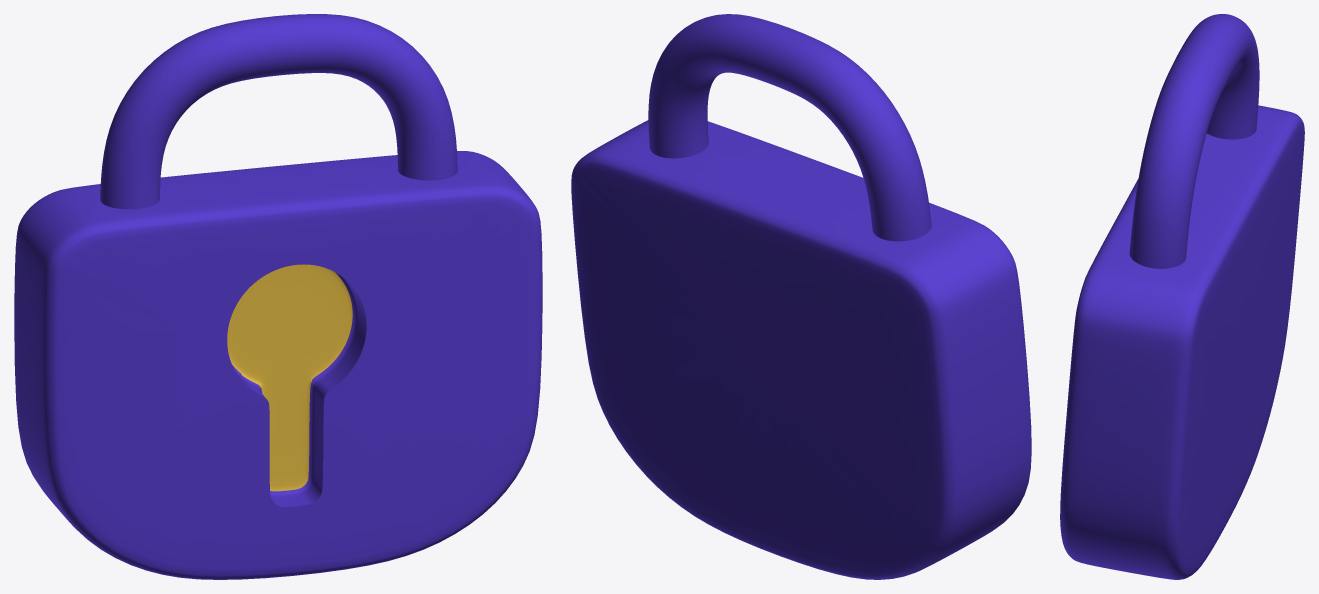
The model's file is padlock-3d-icon-1058526044089.glb.
3 views of the same model, side by side, from view 1: azimuth 30°, elevation 25°; view 2: azimuth 150°, elevation 25°; view 3: azimuth 270°, elevation 25° (orthographic). The views are drawn at different scales.
Parts seen in each view (by area): view 1: Padlock, Key Hole; view 2: Padlock; view 3: Padlock.
Boxes of the visible parts, <box> form: Padlock: <box>14,14,542,579</box>; Key Hole: <box>227,264,352,491</box>; Padlock: <box>571,14,1031,579</box>; Padlock: <box>1060,14,1304,579</box>.
Size of the model in its own units: 1.88 by 2.04 by 0.9085.
